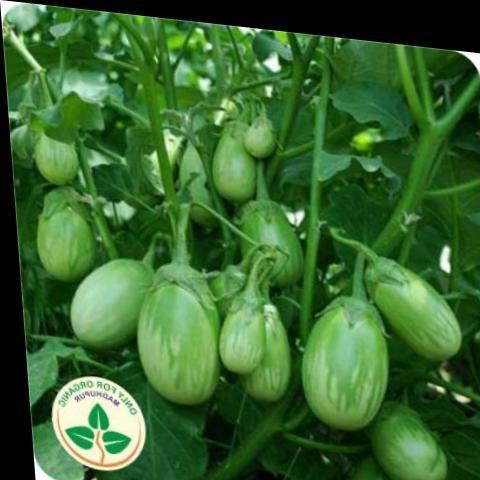eggplant: (274, 235, 472, 479), (32, 234, 305, 402), (13, 130, 100, 302), (186, 100, 278, 238)
